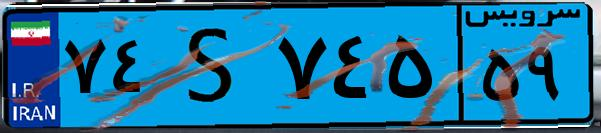4: (330, 28, 385, 110), (110, 28, 158, 98)
5: (385, 28, 445, 110), (475, 38, 525, 113)
7: (270, 28, 330, 110), (57, 26, 110, 100)
9: (525, 38, 570, 115)
S: (158, 12, 270, 120)
